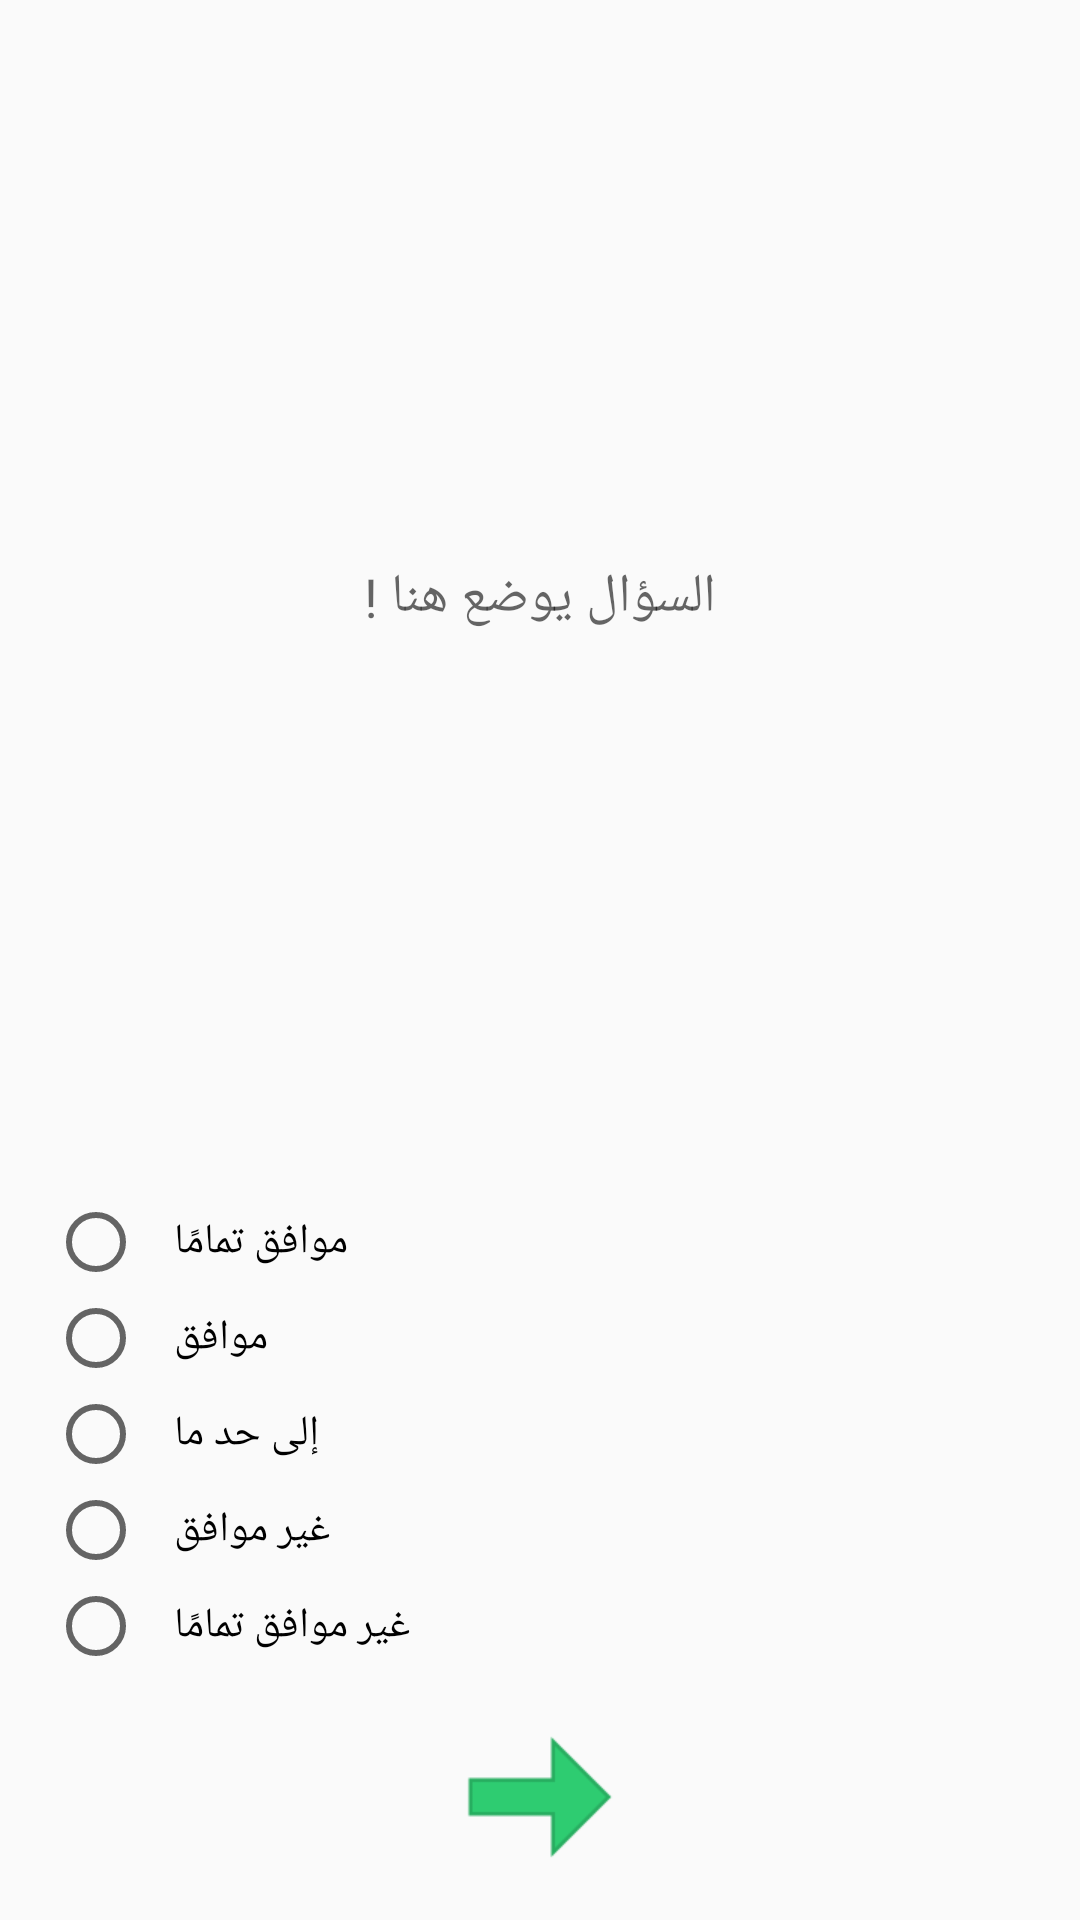

Where icons sit on this 1080×1920 app screen, as region(x1, y1, x2, y2):
arrow: region(468, 1737, 611, 1857)
